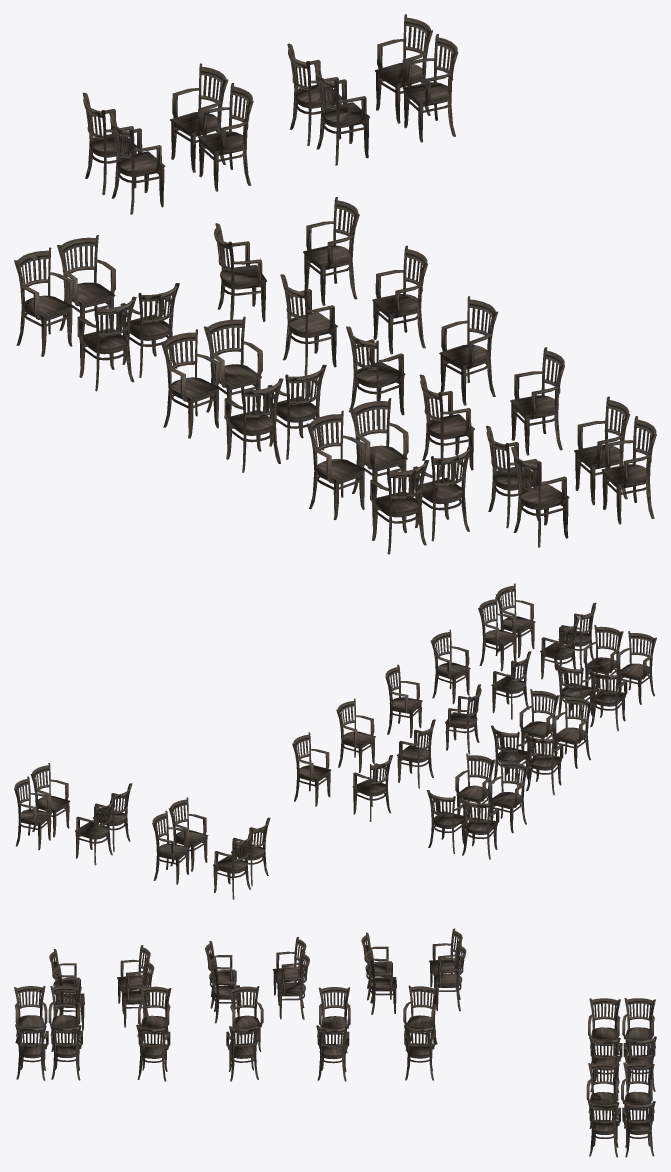
The picture shows the model from 3 angles, top to bottom: view 1: azimuth 30°, elevation 25°; view 2: azimuth 150°, elevation 25°; view 3: azimuth 270°, elevation 25°; orthographic projection. The views are drawn at different scales.
Visible parts, largest first — view 1: Bistro_Research_Interior_Paris_Chair_04__2412, Bistro_Research_Interior_Paris_Chair_04_2404, Bistro_Research_Interior_Paris_Chair_04__2414, Bistro_Research_Interior_Paris_Chair_05_2416, Bistro_Research_Interior_Paris_Chair_05__2434, Bistro_Research_Interior_Paris_Chair_05__2420, Bistro_Research_Interior_Paris_Chair_05__2432, Bistro_Research_Interior_Paris_Chair_03__2394, Bistro_Research_Interior_Paris_Chair_05__2428, Bistro_Research_Interior_Paris_Chair_05__2430, Bistro_Research_Interior_Paris_Chair_05__2422, Bistro_Research_Interior_Paris_Chair_05__2426 (+20 smaller); view 2: Bistro_Research_Interior_Paris_Chair_03_2392, Bistro_Research_Interior_Paris_Chair_03__2402, Bistro_Research_Interior_Paris_Chair_03__2400, Bistro_Research_Interior_Paris_Chair_05__2430, Bistro_Research_Interior_Paris_Chair_02__2374, Bistro_Research_Interior_Paris_Chair_05__2434, Bistro_Research_Interior_Paris_Chair_05__2432, Bistro_Research_Interior_Paris_Chair_04__2408, Bistro_Research_Interior_Paris_Chair_04__2414, Bistro_Research_Interior_Paris_Chair_04__2410, Bistro_Research_Interior_Paris_Chair_04_2404, Bistro_Research_Interior_Paris_Chair_04__2412 (+20 smaller); view 3: Bistro_Research_Interior_Paris_Chair_02_2372, Bistro_Research_Interior_Paris_Chair_05__2418, Bistro_Research_Interior_Paris_Chair_04__2406, Bistro_Research_Interior_Paris_Chair_05_2416, Bistro_Research_Interior_Paris_Chair_02__2388, Bistro_Research_Interior_Paris_Chair_02__2390, Bistro_Research_Interior_Paris_Chair_03__2396, Bistro_Research_Interior_Paris_Chair_02__2378, Bistro_Research_Interior_Paris_Chair_02__2376, Bistro_Research_Interior_Paris_Chair_05__2430, Bistro_Research_Interior_Paris_Chair_03__2394, Bistro_Research_Interior_Paris_Chair_03__2398 (+20 smaller).
Part boxes in pixels (box(x1,y1,x2,y2)): Bistro_Research_Interior_Paris_Chair_04__2412: box(14, 247, 73, 356); Bistro_Research_Interior_Paris_Chair_04_2404: box(306, 410, 365, 519); Bistro_Research_Interior_Paris_Chair_04__2414: box(161, 329, 220, 438); Bistro_Research_Interior_Paris_Chair_05_2416: box(439, 296, 498, 405); Bistro_Research_Interior_Paris_Chair_05__2434: box(303, 197, 359, 305); Bistro_Research_Interior_Paris_Chair_05__2420: box(198, 83, 253, 191); Bistro_Research_Interior_Paris_Chair_05__2432: box(372, 245, 427, 354); Bistro_Research_Interior_Paris_Chair_03__2394: box(601, 416, 656, 524); Bistro_Research_Interior_Paris_Chair_05__2428: box(349, 398, 408, 505); Bistro_Research_Interior_Paris_Chair_05__2430: box(510, 347, 564, 455); Bistro_Research_Interior_Paris_Chair_05__2422: box(402, 34, 458, 142); Bistro_Research_Interior_Paris_Chair_05__2426: box(203, 316, 262, 424); Bistro_Research_Interior_Paris_Chair_03_2392: box(616, 631, 656, 704); Bistro_Research_Interior_Paris_Chair_03__2402: box(552, 695, 592, 768); Bistro_Research_Interior_Paris_Chair_03__2400: box(488, 759, 528, 833); Bistro_Research_Interior_Paris_Chair_05__2430: box(430, 629, 470, 704); Bistro_Research_Interior_Paris_Chair_02__2374: box(478, 597, 517, 671); Bistro_Research_Interior_Paris_Chair_05__2434: box(292, 732, 331, 806); Bistro_Research_Interior_Paris_Chair_05__2432: box(336, 698, 375, 772); Bistro_Research_Interior_Paris_Chair_04__2408: box(152, 810, 189, 884); Bistro_Research_Interior_Paris_Chair_04__2414: box(524, 733, 563, 795); Bistro_Research_Interior_Paris_Chair_04__2410: box(14, 776, 51, 850); Bistro_Research_Interior_Paris_Chair_04_2404: box(588, 669, 627, 731); Bistro_Research_Interior_Paris_Chair_04__2412: box(460, 797, 499, 859); Bistro_Research_Interior_Paris_Chair_02_2372: box(228, 986, 263, 1051); Bistro_Research_Interior_Paris_Chair_05__2418: box(48, 986, 81, 1051); Bistro_Research_Interior_Paris_Chair_04__2406: box(14, 986, 47, 1043); Bistro_Research_Interior_Paris_Chair_05_2416: box(226, 1024, 260, 1081); Bistro_Research_Interior_Paris_Chair_02__2388: box(318, 987, 350, 1053); Bistro_Research_Interior_Paris_Chair_02__2390: box(403, 985, 438, 1051); Bistro_Research_Interior_Paris_Chair_03__2396: box(622, 998, 655, 1063); Bistro_Research_Interior_Paris_Chair_02__2378: box(586, 1063, 619, 1128); Bistro_Research_Interior_Paris_Chair_02__2376: box(588, 998, 620, 1064); Bistro_Research_Interior_Paris_Chair_05__2430: box(136, 1024, 170, 1081); Bistro_Research_Interior_Paris_Chair_03__2394: box(15, 1024, 48, 1080); Bistro_Research_Interior_Paris_Chair_03__2398: box(621, 1062, 654, 1128).
Bounding box in the file's own units: 7.1 × 1.04 × 10.97.
1 material, 1 textured.
